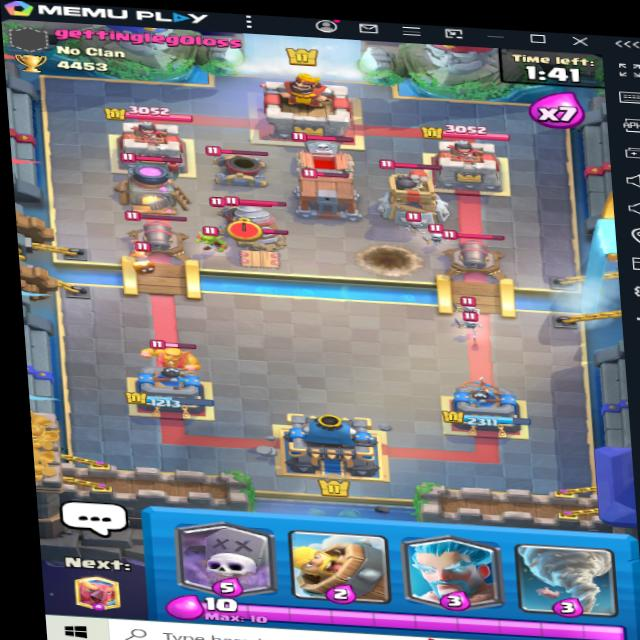bomb-tower: (377, 158, 463, 231)
brawler: (141, 339, 207, 379)
cannon: (438, 225, 511, 280), (128, 209, 194, 258)
fire-spirit: (127, 249, 156, 276)
furnace: (116, 152, 198, 216)
goblin: (198, 223, 231, 253)
goblin-cage: (293, 166, 369, 220)
goblin-drill: (221, 188, 292, 239)
mortar: (207, 188, 279, 235), (204, 146, 270, 180)
skeleton: (450, 291, 482, 316), (420, 225, 454, 244), (457, 313, 484, 336)
tesla-closed: (225, 220, 290, 270)
tombstone: (287, 129, 366, 176)
